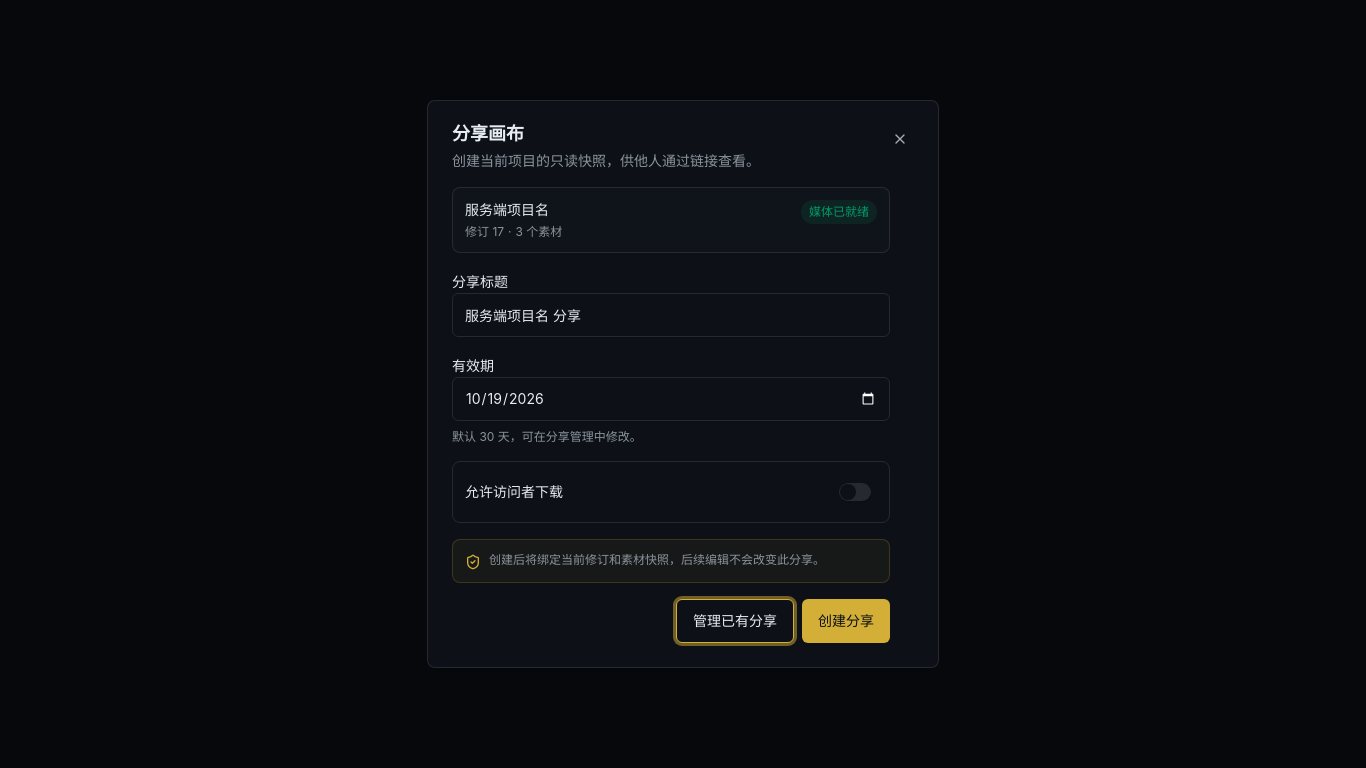
canvas share owner UI › maps CANVAS_SHARE_UNSUPPORTED_ELEMENT to a safe Chinese next action
Expected: the text "媒体已就绪" is shown, [801,200,877,224]
Click the button "创建分享" at [846, 621], box [802,599,890,643]
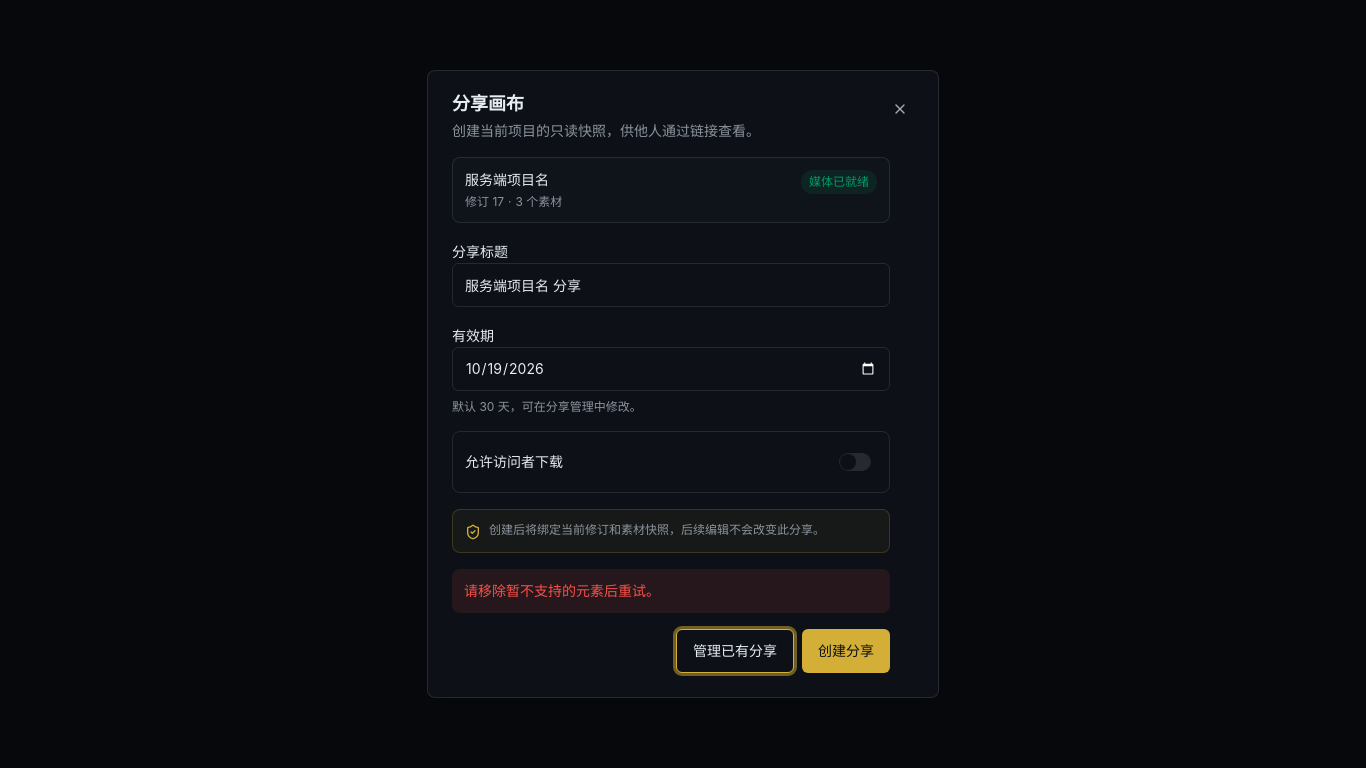
Now the message shows "请移除暂不支持的元素后重试", box [464,582,660,599]
